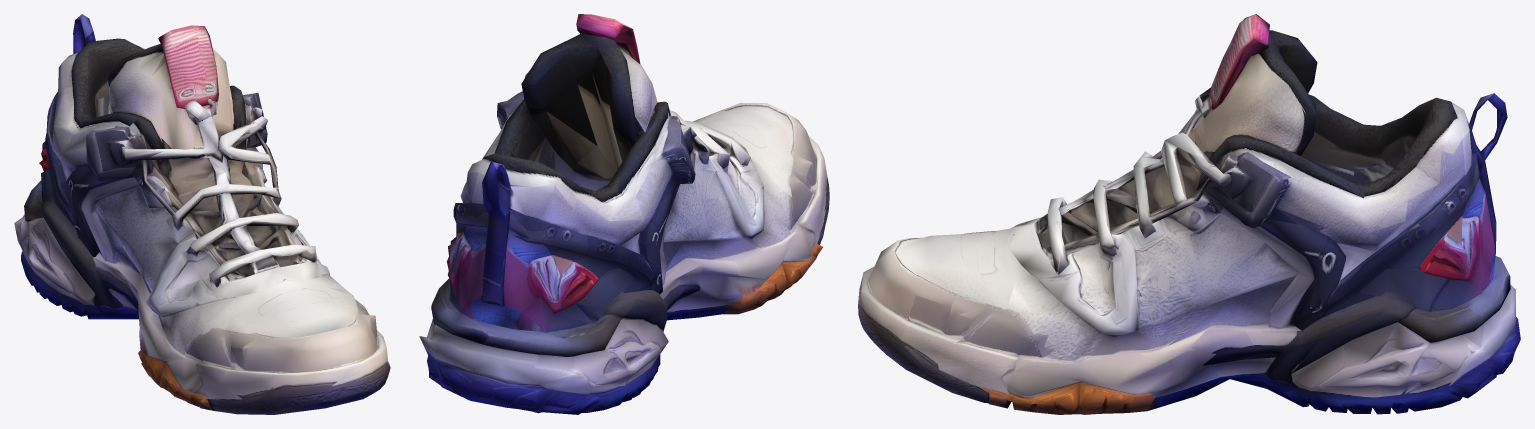
The model's file is tenis_basket_leftFoot.glb.
3 renders of one model, left to right at view 1: azimuth 30°, elevation 25°; view 2: azimuth 150°, elevation 25°; view 3: azimuth 270°, elevation 25°, orthographic. The views are drawn at different scales.
Parts seen in each view (by area): view 1: tenis_basket; view 2: tenis_basket; view 3: tenis_basket.
Part boxes in pixels (x1=…): tenis_basket: x1=14, y1=14, x2=390, y2=414; tenis_basket: x1=419, y1=14, x2=829, y2=414; tenis_basket: x1=858, y1=14, x2=1520, y2=414.
Size of the model in its own units: 0.1293 by 0.1799 by 0.3121.
1 material, 1 textured.
